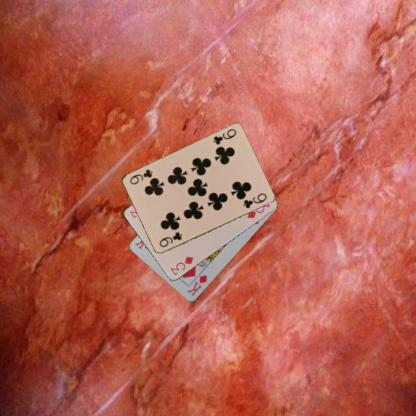3d: (168, 254, 194, 277)
9c: (210, 127, 238, 146), (157, 230, 183, 248)
Kd: (185, 272, 208, 298)
